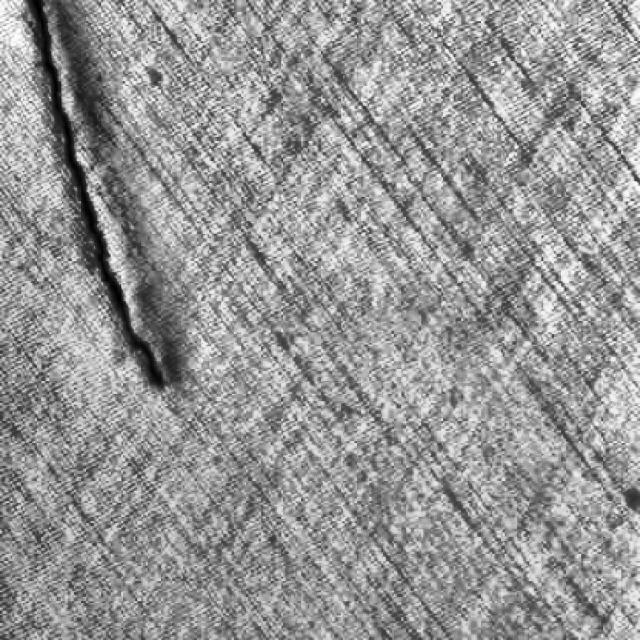objects: (17, 0, 177, 400)
